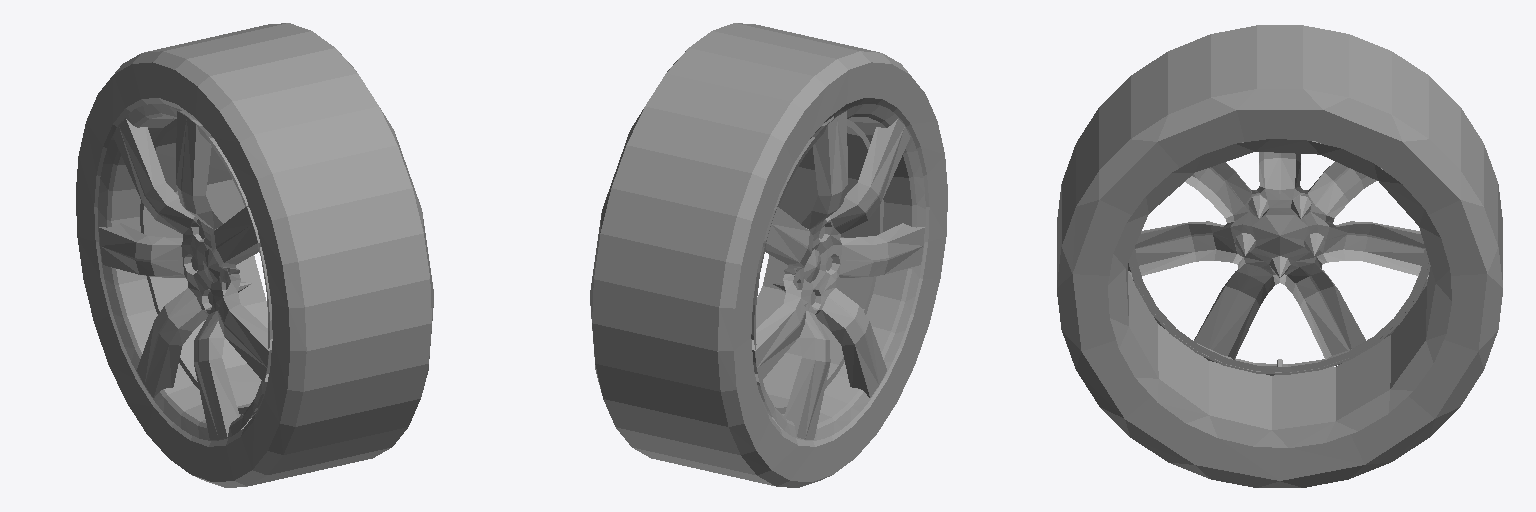
The model's file is Nissan_TireR.obj.
The picture shows the model from 3 angles: view 1: azimuth 30°, elevation 25°; view 2: azimuth 150°, elevation 25°; view 3: azimuth 270°, elevation 25°; orthographic projection.
Parts seen in each view (by area): view 1: TireFR1; view 2: TireFR1; view 3: TireFR1.
Part boxes in pixels (left/top/right/bottom): TireFR1: left=76, top=23, right=433, bottom=487; TireFR1: left=590, top=23, right=947, bottom=487; TireFR1: left=1057, top=25, right=1502, bottom=487.
Bounding box in the file's own units: 0.2835 × 0.7076 × 0.708.